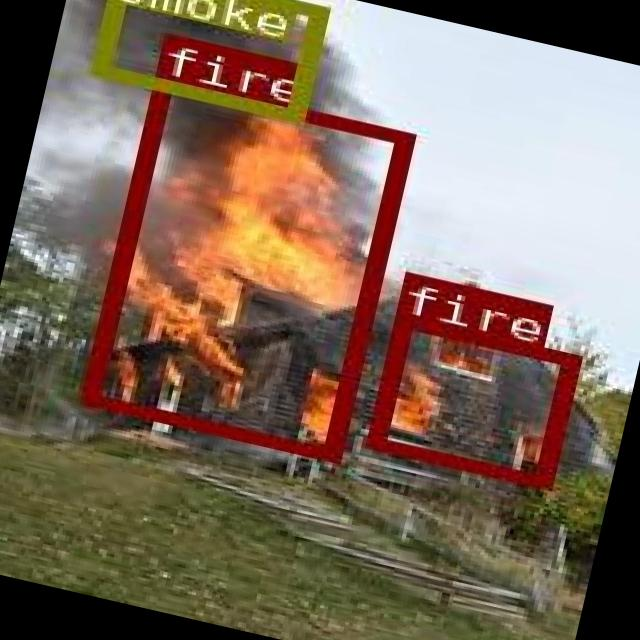fire: (76, 71, 412, 460), (364, 312, 576, 486)
smoke: (87, 0, 324, 119)
